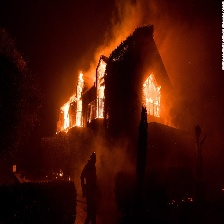fire: (52, 54, 172, 135)
